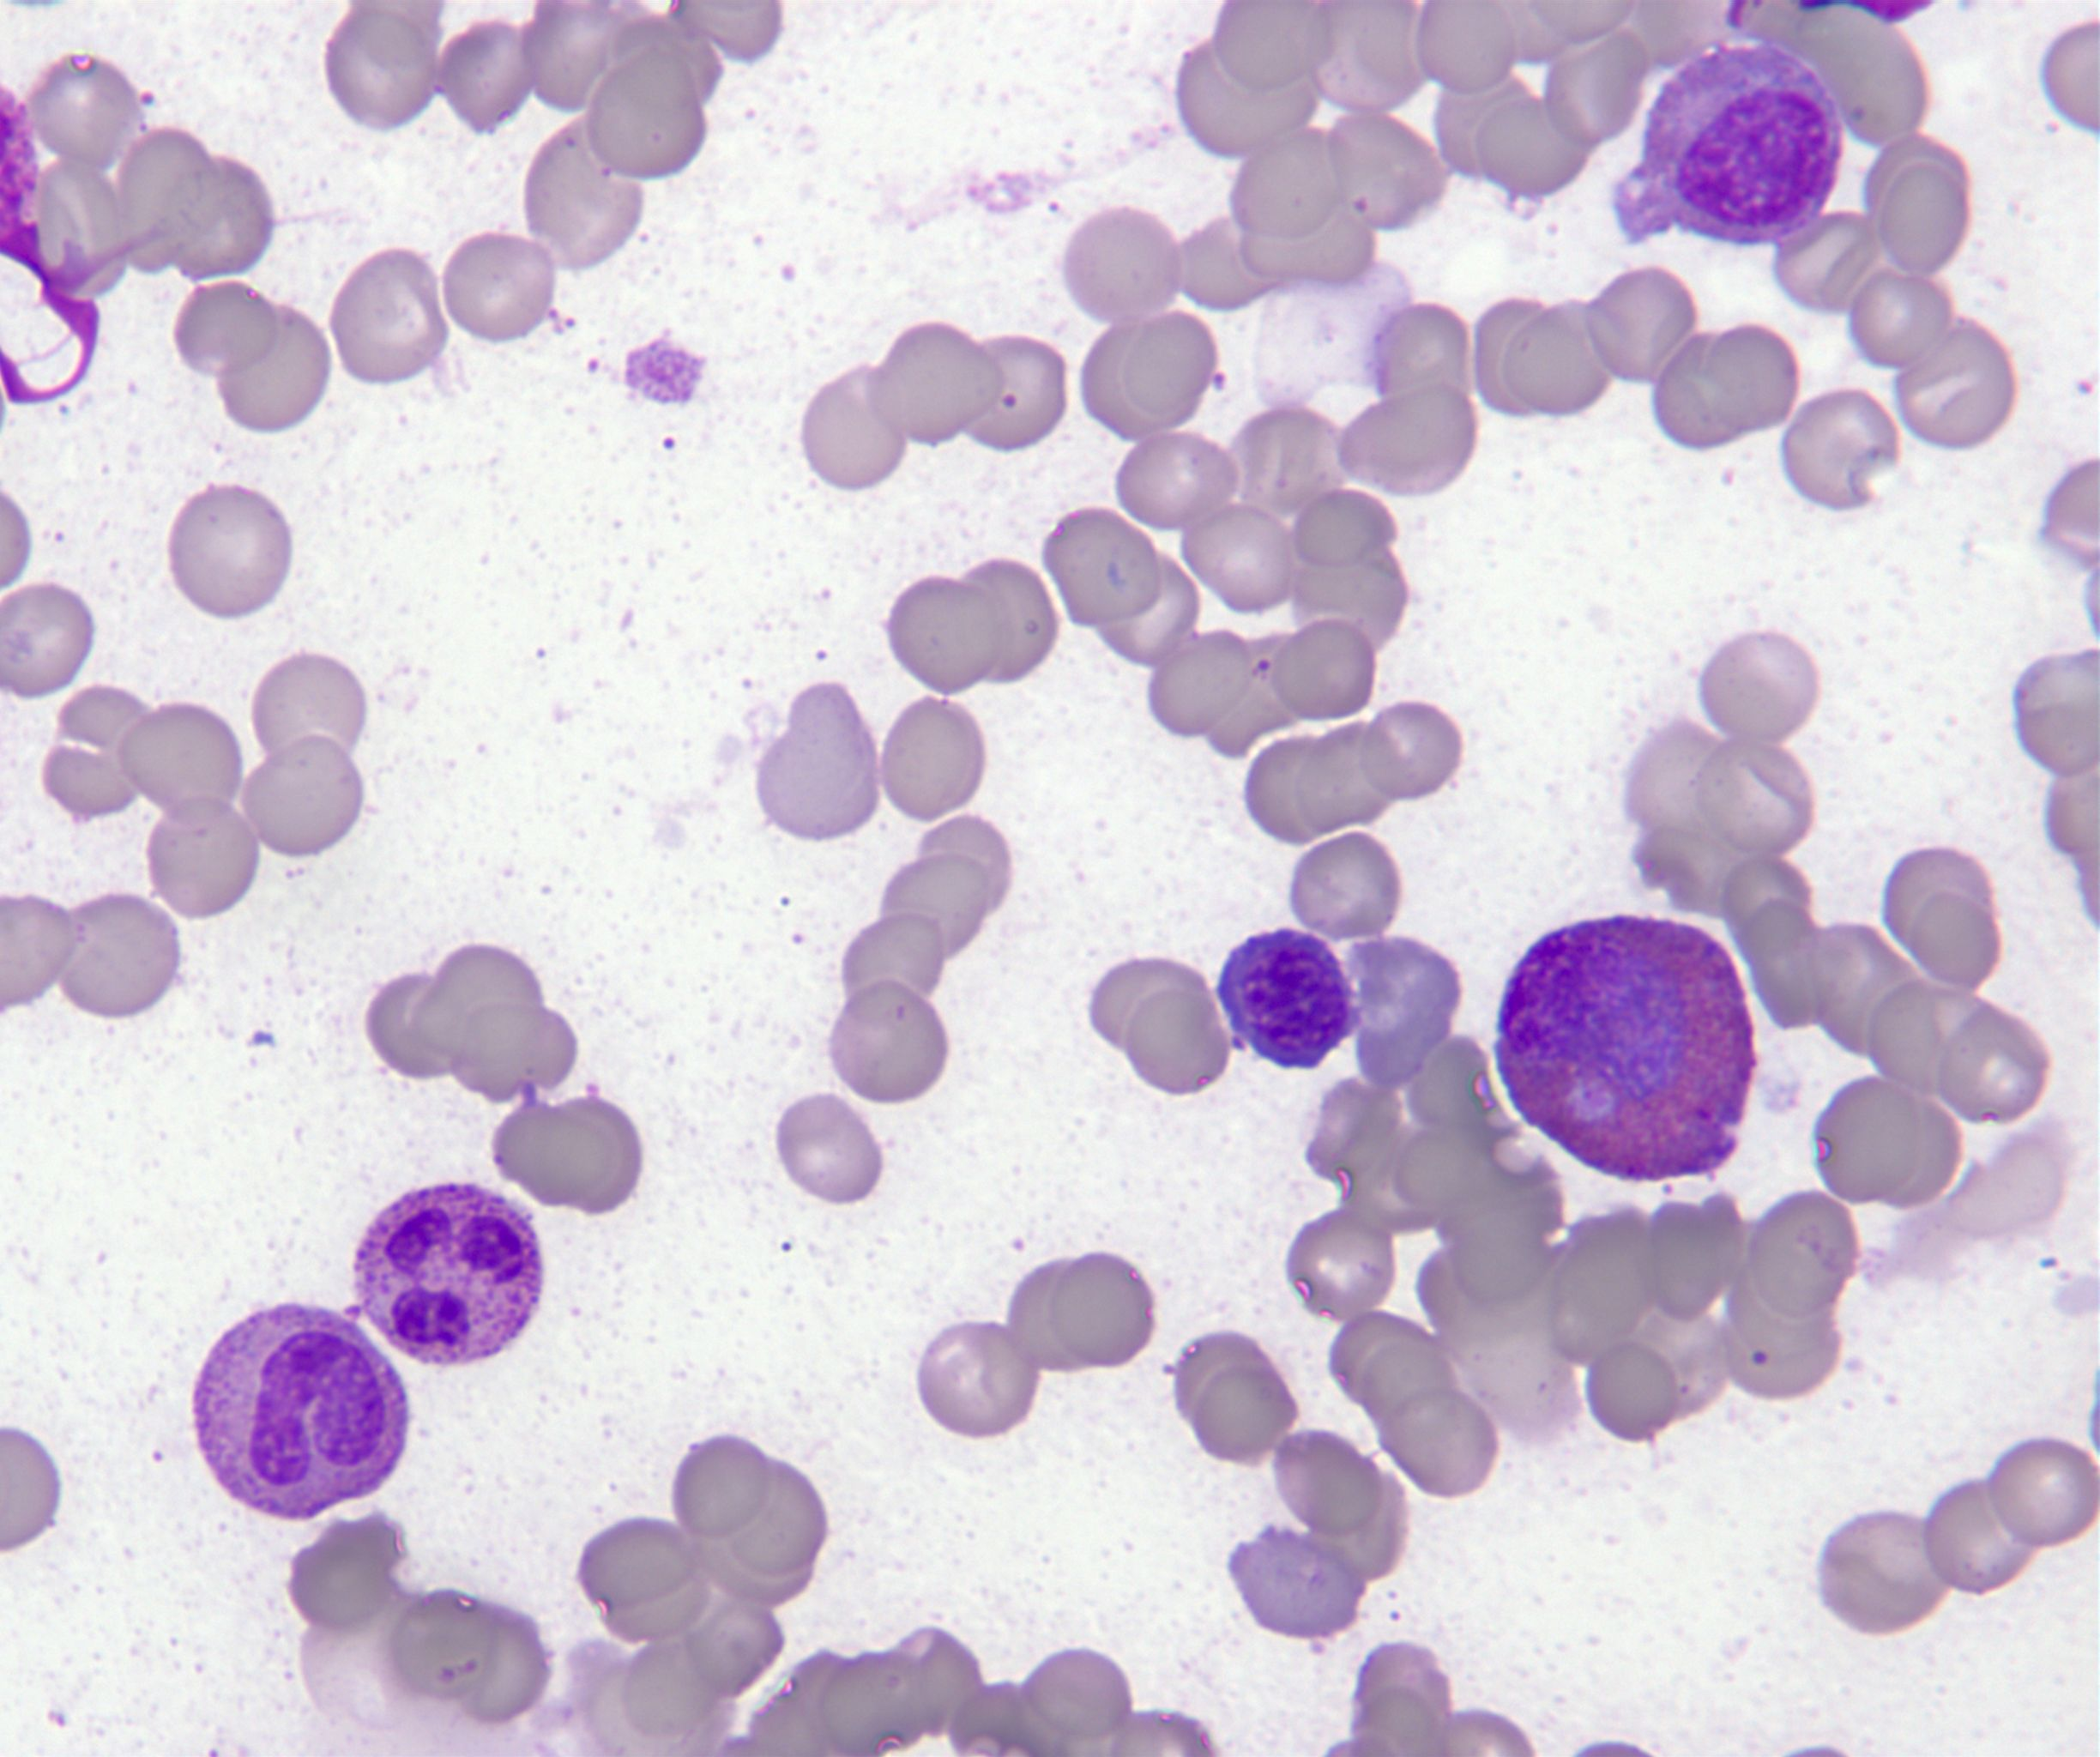24: (1212, 930, 1359, 1071)
3: (1617, 44, 1840, 248)
5: (197, 1305, 408, 1520)
6: (358, 1186, 542, 1368)
E2: (1497, 916, 1755, 1183)
